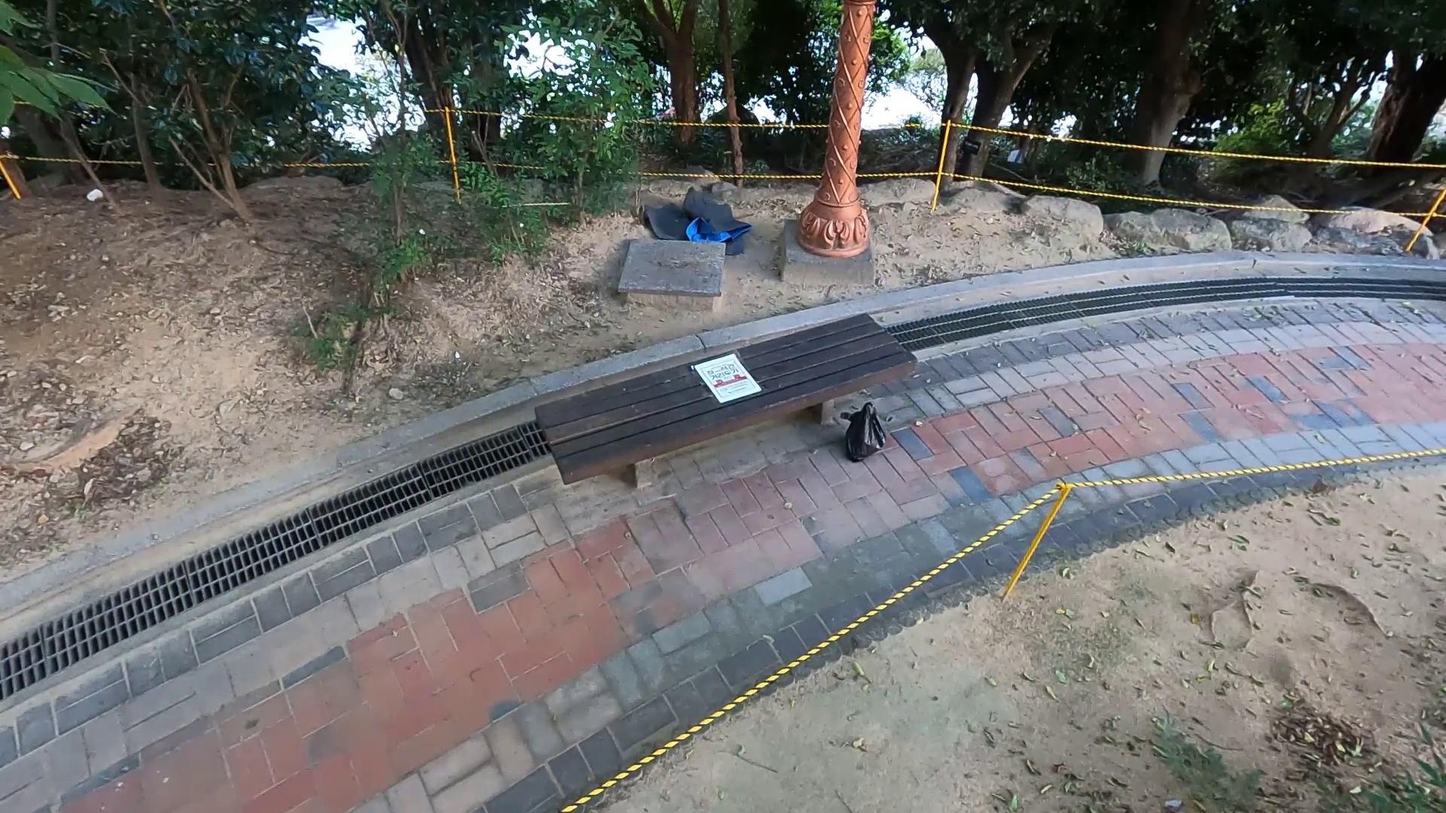trash: (637, 181, 758, 258), (838, 403, 884, 468)
